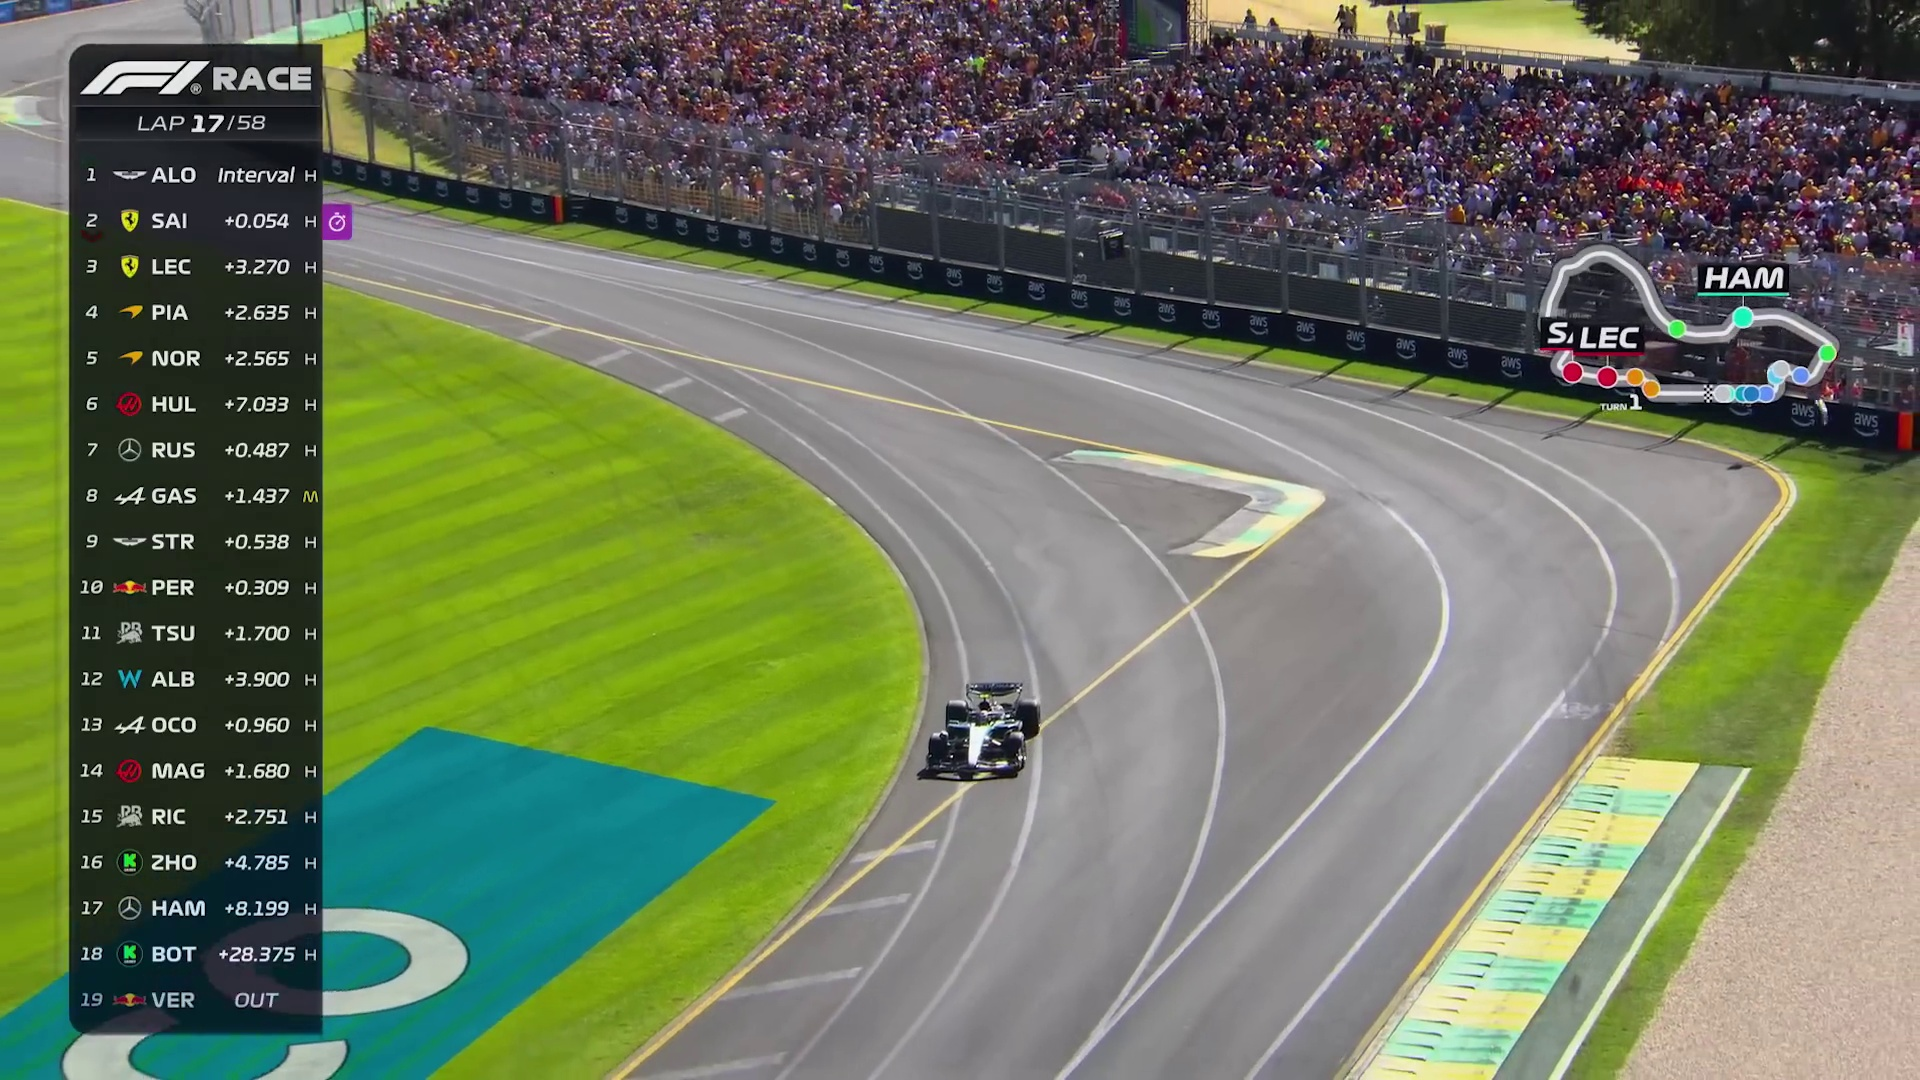Mercedes: (934, 676, 1036, 782)
